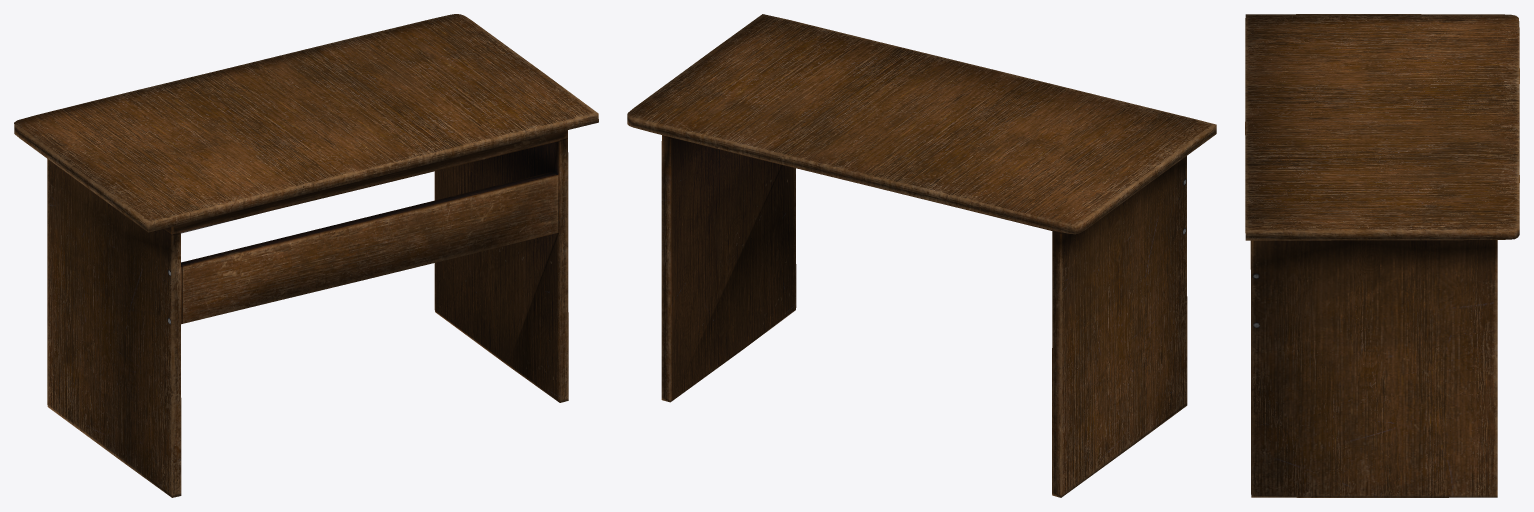
The model's file is table_drugoy.obj.
3 renders of one model, left to right at view 1: azimuth 30°, elevation 25°; view 2: azimuth 150°, elevation 25°; view 3: azimuth 270°, elevation 25°, orthographic. The views are drawn at different scales.
Visible parts, largest first — view 1: Table; view 2: Table; view 3: Table.
Boxes of the visible parts, box(x1,y1,x2,y2) form: Table: box(14, 14, 598, 497); Table: box(627, 14, 1216, 497); Table: box(1245, 14, 1519, 497).
Bounding box in the file's own units: 1.44 × 0.8696 × 0.7698.
